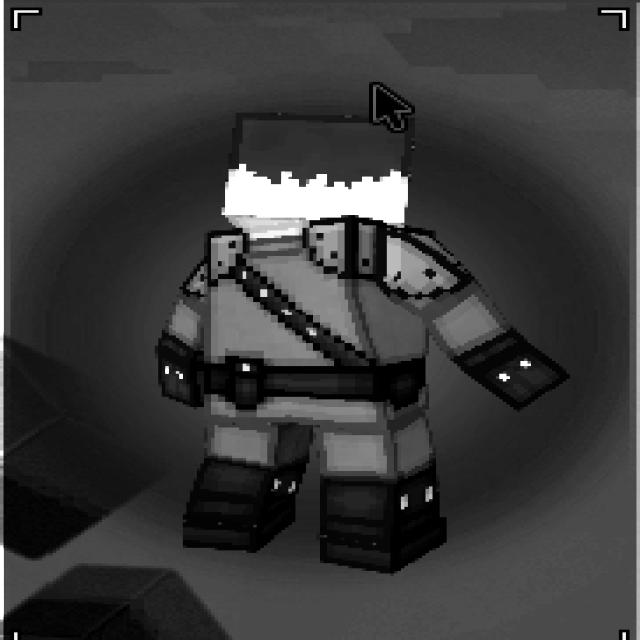Head: (218, 110, 411, 228)
Player: (151, 84, 570, 574)
